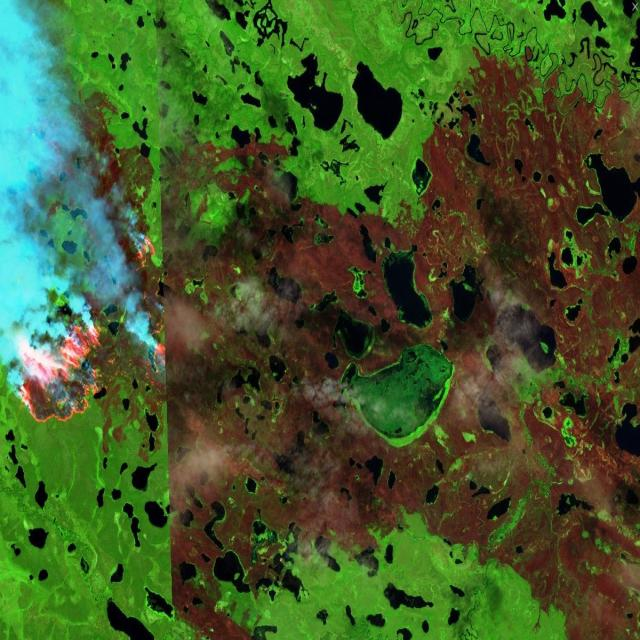fire: (7, 213, 174, 445)
